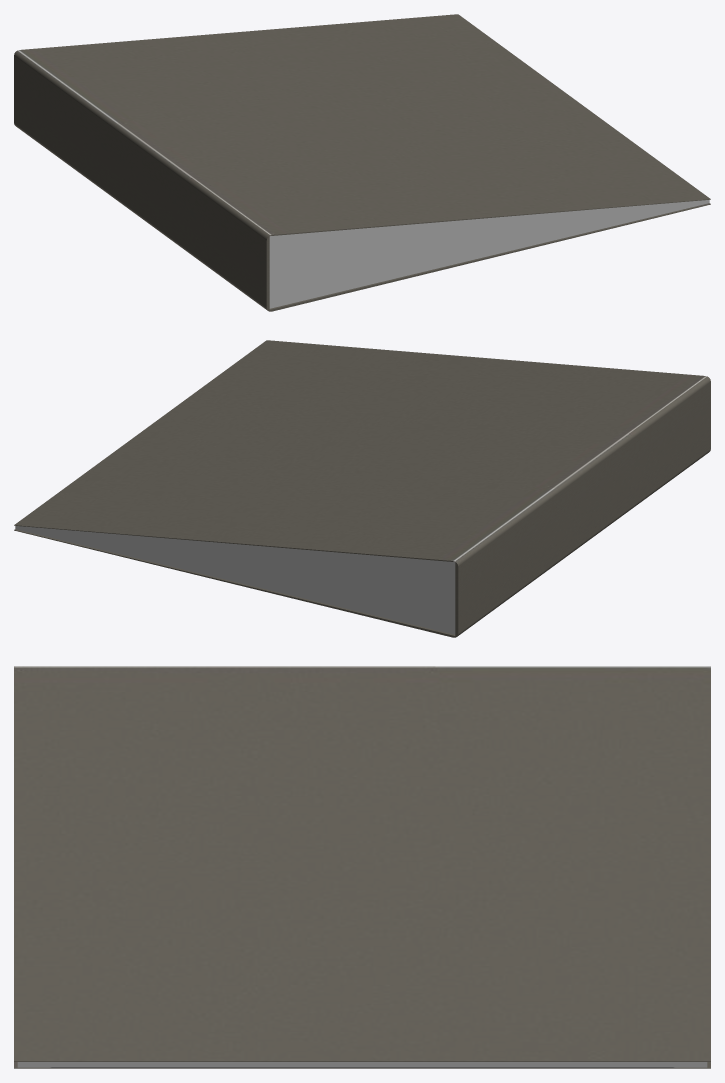
File: Binder.fbx
3 renders of one model, top to bottom at view 1: azimuth 30°, elevation 25°; view 2: azimuth 150°, elevation 25°; view 3: azimuth 270°, elevation 25°, orthographic. The views are drawn at different scales.
Parts seen in each view (by area): view 1: Binder; view 2: Binder; view 3: Binder.
Boxes of the visible parts, box(x1,y1,x2,y2) form: Binder: box(14, 14, 710, 311); Binder: box(14, 340, 710, 637); Binder: box(14, 666, 710, 1068).
Size of the model in its own units: 1.98 by 0.327 by 1.95.
2 materials, 2 textured.
